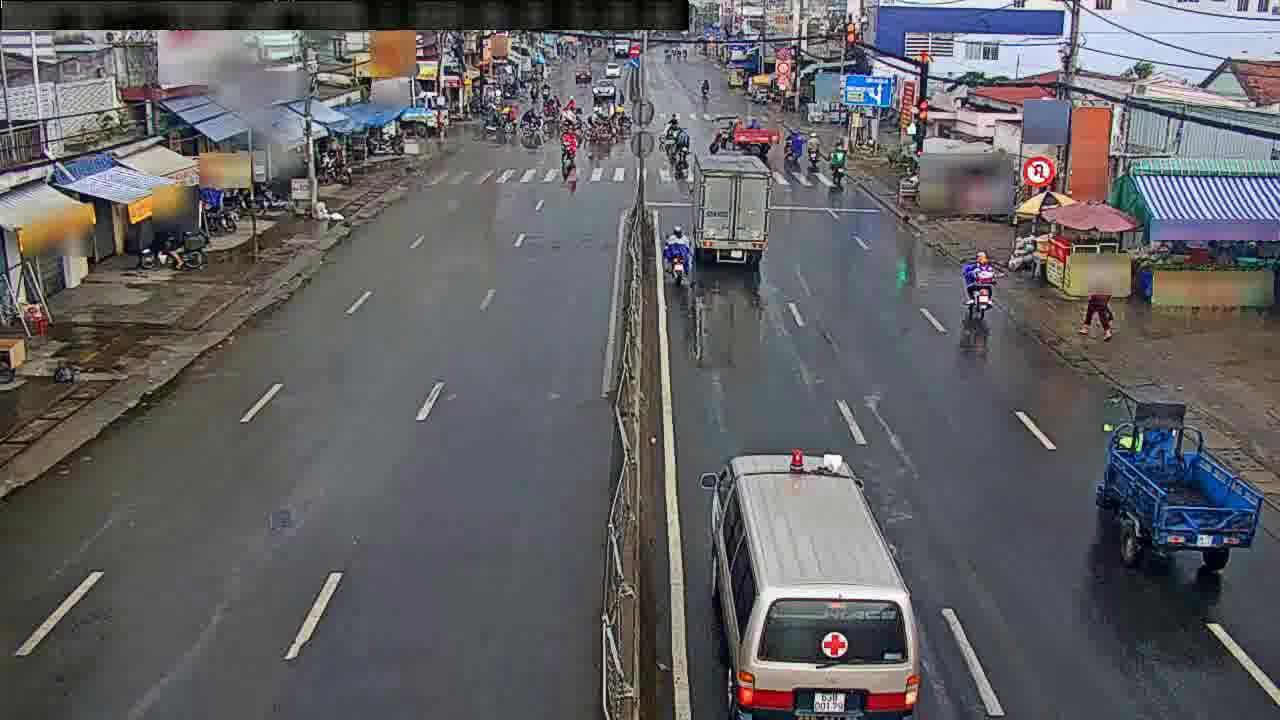14: (699, 459, 930, 715)
8: (692, 153, 770, 267)
motorbike: (952, 245, 998, 321), (663, 225, 696, 289), (553, 129, 580, 169)
